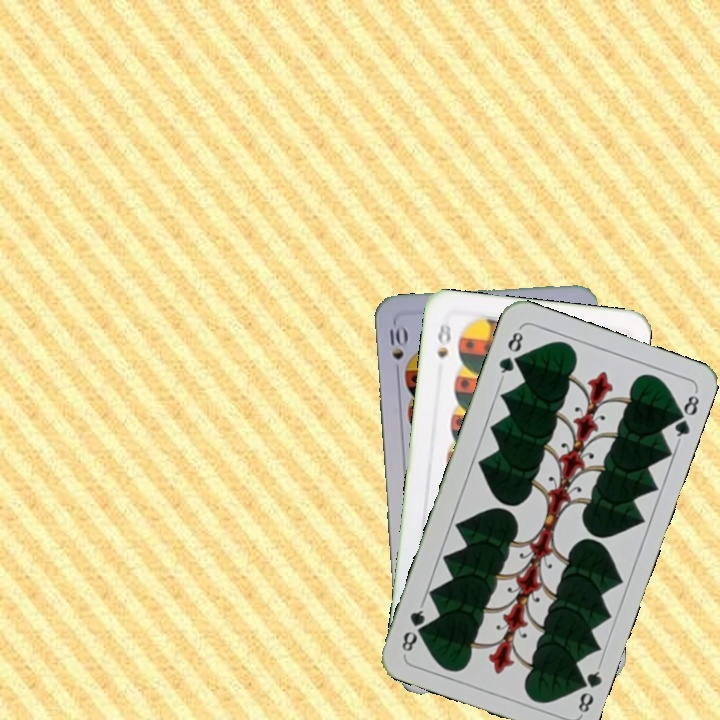G8: (494, 324, 527, 382), (572, 661, 605, 718)
S10: (386, 321, 408, 379)
S8: (433, 319, 454, 360)
